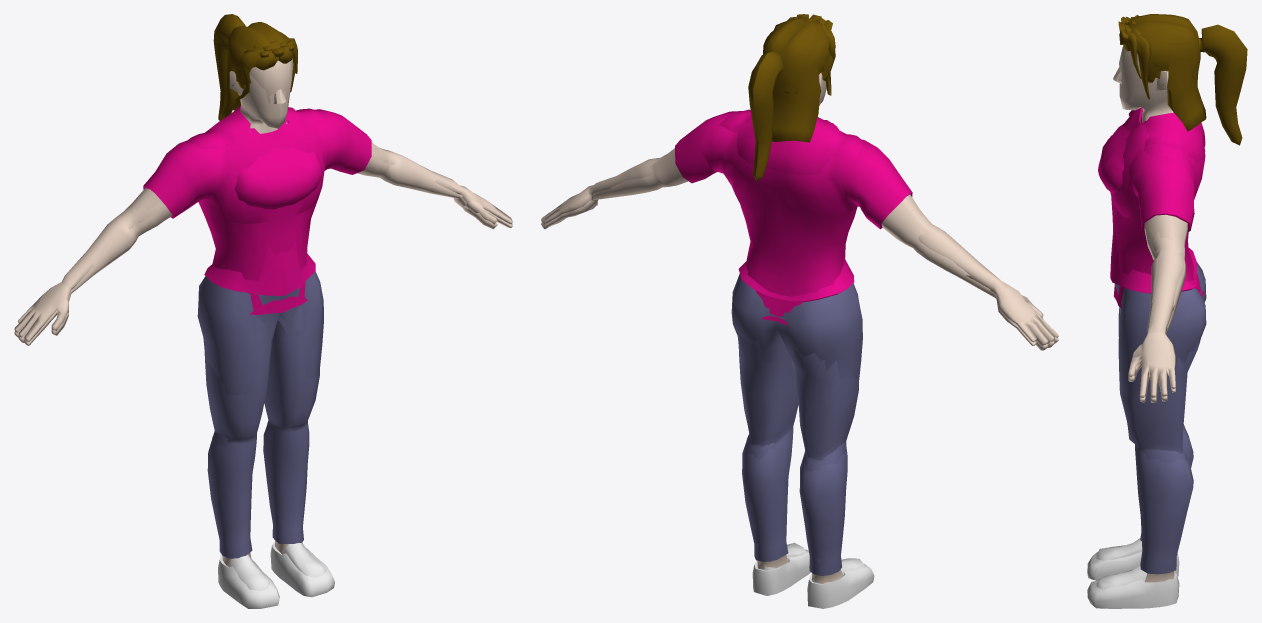
File: HairMeshes.fbx
The picture shows the model from 3 angles, left to right: view 1: azimuth 30°, elevation 25°; view 2: azimuth 150°, elevation 25°; view 3: azimuth 270°, elevation 25°; orthographic projection. The views are drawn at different scales.
Parts seen in each view (by area): view 1: Base_Mesh__Male1, BaseMesh_Female, HairFemaleII, PonyTailHair; view 2: Base_Mesh__Male1, BaseMesh_Female, HairFemaleII, PonyTailHair; view 3: Base_Mesh__Male1, BaseMesh_Female, HairFemaleII, PonyTailHair, Male_Hair_II2.
Boxes of the visible parts, <box> form: Base_Mesh__Male1: <box>14,62,512,608</box>; BaseMesh_Female: <box>14,59,512,590</box>; HairFemaleII: <box>221,22,297,119</box>; PonyTailHair: <box>213,14,287,120</box>; Base_Mesh__Male1: <box>541,72,1058,608</box>; BaseMesh_Female: <box>541,109,1058,583</box>; HairFemaleII: <box>763,16,835,142</box>; PonyTailHair: <box>748,28,830,181</box>; Base_Mesh__Male1: <box>1087,62,1205,608</box>; BaseMesh_Female: <box>1096,46,1206,589</box>; HairFemaleII: <box>1119,14,1206,131</box>; PonyTailHair: <box>1137,24,1247,145</box>; Male_Hair_II2: <box>1118,15,1193,82</box>.
Bounding box in the file's own units: 173 × 186 × 47.29.
